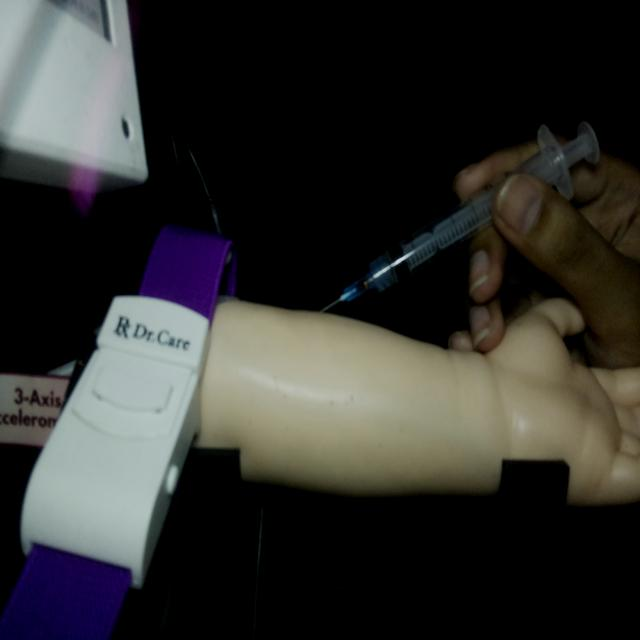24 degrees: (318, 116, 602, 314)
